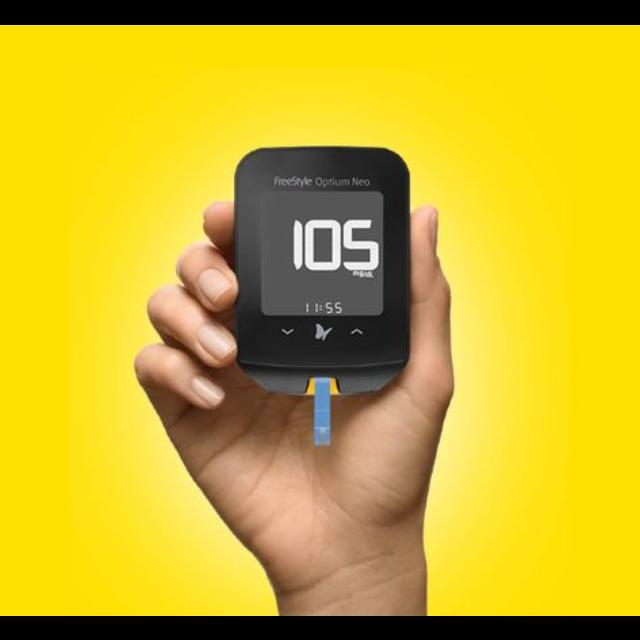Glucose-Meter: (235, 146, 410, 445)
